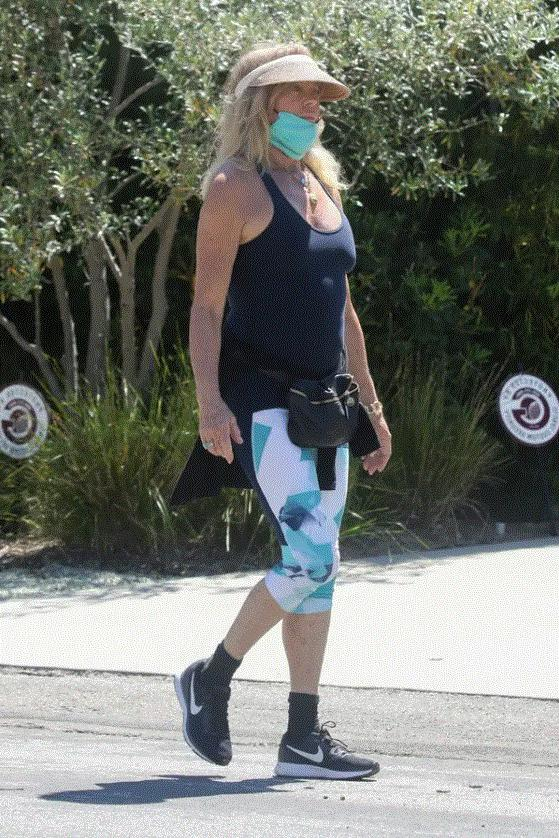mask_weared_incorrect: (277, 85, 328, 140)
